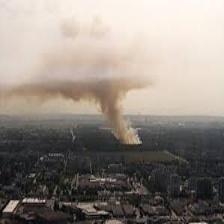smoke: (30, 35, 148, 145)
